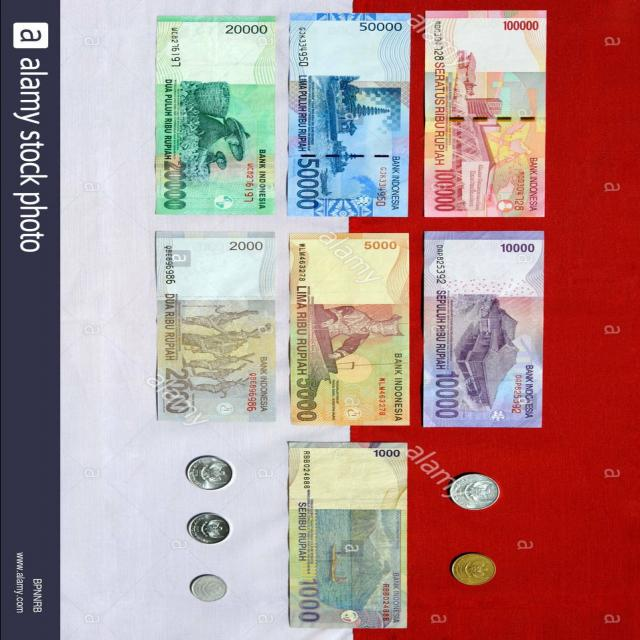1000IndonesianRupiah: (284, 434, 404, 628)
